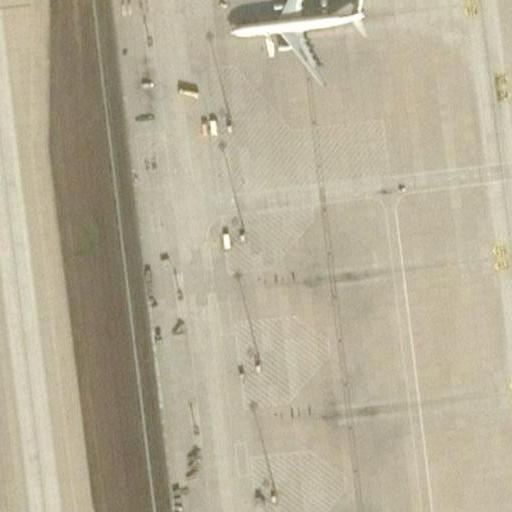Aircraft: (223, 0, 371, 90)
